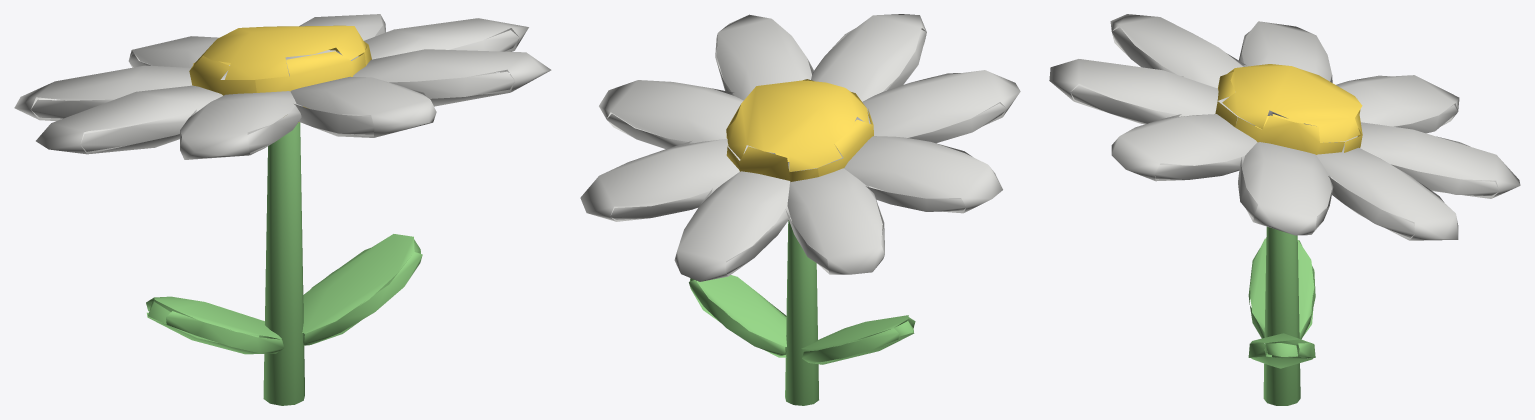
Rendered from daisy_white.glb.
3 renders of one model, left to right at view 1: azimuth 30°, elevation 25°; view 2: azimuth 150°, elevation 25°; view 3: azimuth 270°, elevation 25°, orthographic. The views are drawn at different scales.
Parts seen in each view (by area): view 1: Center, Stem, Petal_4, Petal_7, Leaf_0.09, Petal_6, Petal_5, Petal_3, Leaf_-0.09, Petal_0, Petal_2, Petal_1; view 2: Center, Petal_4, Petal_2, Petal_1, Petal_3, Petal_5, Petal_0, Petal_6, Petal_7, Stem, Leaf_0.09, Leaf_-0.09; view 3: Center, Petal_1, Petal_6, Petal_7, Petal_0, Petal_2, Petal_5, Stem, Petal_3, Petal_4, Leaf_-0.09, Leaf_0.09.
Part boxes in pixels (x1,y1,x2,y2): Center: (189, 25, 371, 122); Stem: (263, 122, 304, 405); Petal_4: (36, 85, 222, 154); Petal_7: (353, 49, 551, 106); Leaf_0.09: (302, 234, 422, 345); Petal_6: (290, 76, 436, 137); Petal_5: (180, 91, 302, 159); Petal_3: (14, 65, 227, 121); Leaf_-0.09: (146, 296, 284, 354); Petal_0: (336, 18, 528, 60); Petal_2: (128, 36, 229, 67); Petal_1: (285, 14, 385, 76); Center: (726, 79, 873, 181); Petal_4: (831, 136, 1002, 213); Petal_2: (674, 162, 790, 281); Petal_1: (580, 139, 775, 221); Petal_3: (785, 162, 884, 274); Petal_5: (855, 70, 1020, 143); Petal_0: (599, 80, 743, 148); Petal_6: (811, 14, 926, 101); Petal_7: (715, 14, 814, 100); Stem: (785, 220, 818, 405); Leaf_0.09: (689, 275, 786, 357); Leaf_-0.09: (801, 315, 915, 364); Center: (1215, 64, 1362, 154); Petal_1: (1316, 142, 1458, 240); Petal_6: (1049, 59, 1254, 125); Petal_7: (1111, 114, 1261, 181); Petal_0: (1238, 142, 1333, 235); Petal_2: (1340, 122, 1520, 198); Petal_5: (1110, 14, 1272, 115); Stem: (1263, 226, 1300, 405); Petal_3: (1304, 75, 1459, 133); Petal_4: (1239, 21, 1332, 118); Leaf_-0.09: (1248, 238, 1315, 339); Leaf_0.09: (1248, 333, 1315, 368).
Bounding box in the file's own units: 0.6262 × 0.4667 × 0.6082.
